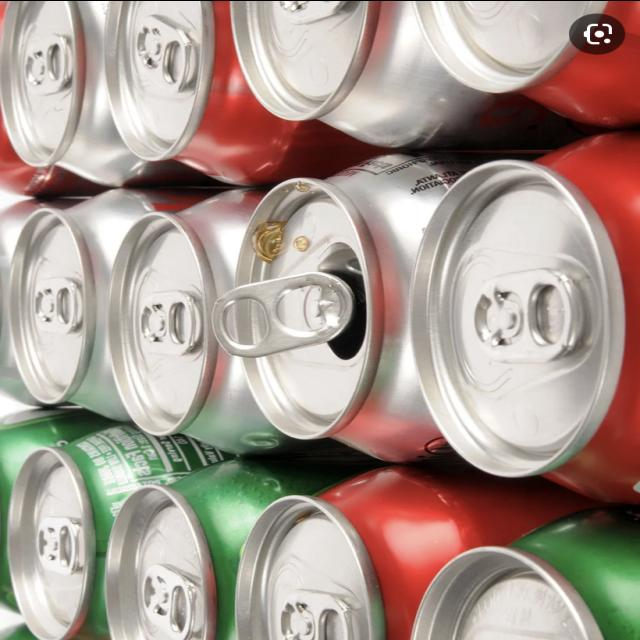can: (386, 115, 640, 505), (209, 140, 462, 488)
